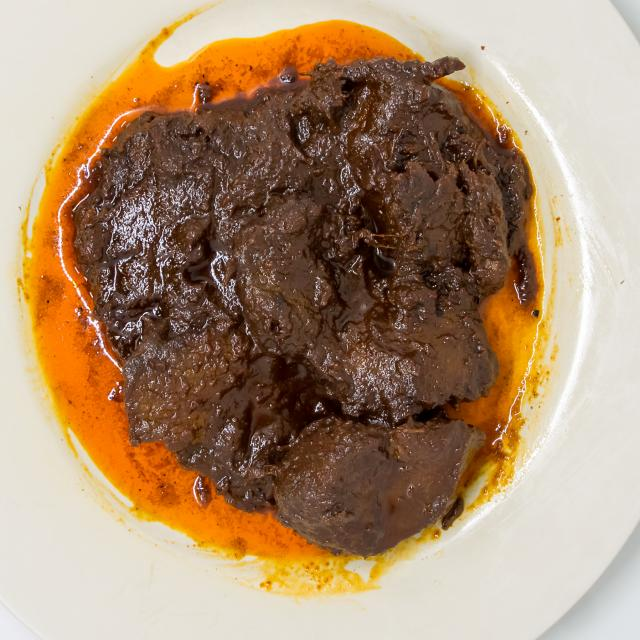Rendang: (58, 41, 548, 562)
